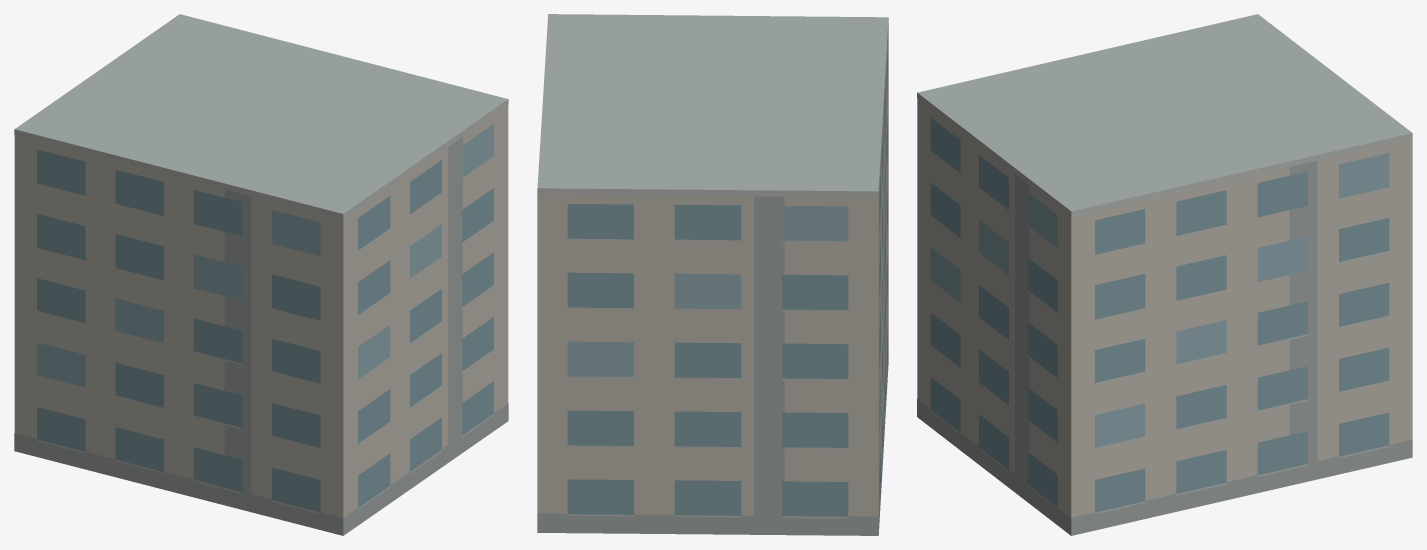
The model's file is survey-upis-32666848.glb.
3 views of the same model, side by side, from view 1: azimuth 30°, elevation 25°; view 2: azimuth 150°, elevation 25°; view 3: azimuth 270°, elevation 25° (orthographic). The views are drawn at different scales.
Parts seen in each view (by area): view 1: survey-upis-32666848.tmp; view 2: survey-upis-32666848.tmp; view 3: survey-upis-32666848.tmp.
Boxes of the visible parts, left/top/right/bottom form: survey-upis-32666848.tmp: left=14, top=14, right=508, bottom=535; survey-upis-32666848.tmp: left=537, top=14, right=888, bottom=535; survey-upis-32666848.tmp: left=917, top=14, right=1412, bottom=535.
Size of the model in its own units: 17.75 by 13.6 by 18.83.
